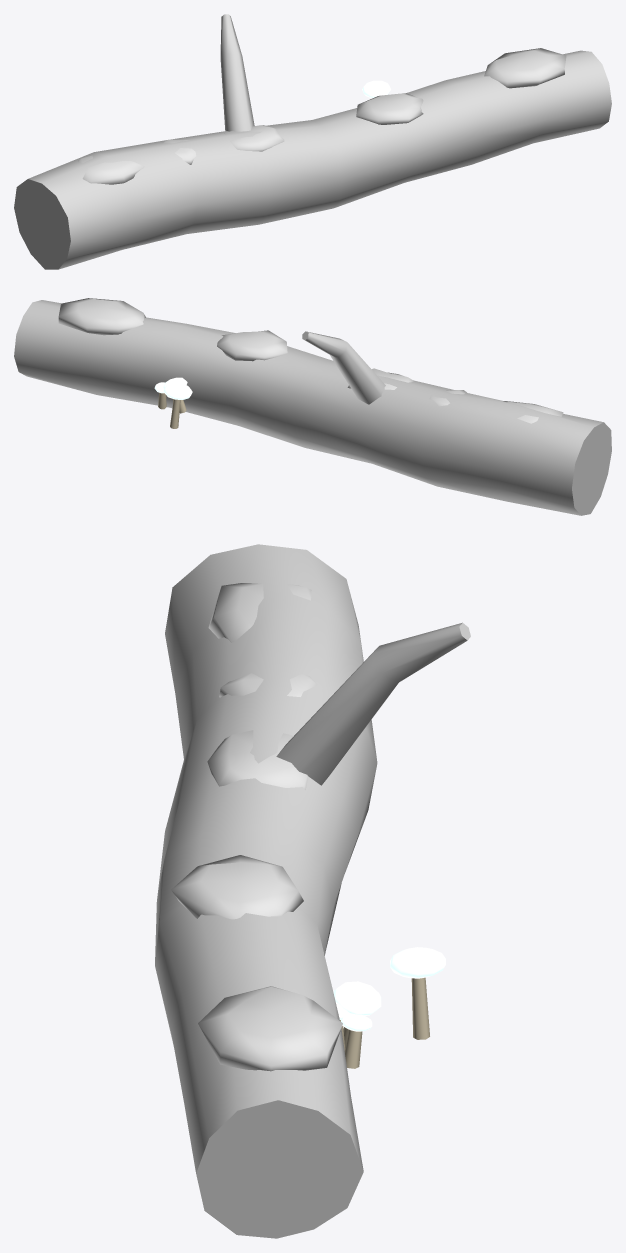
The model's file is FallenLog.fbx.
The picture shows the model from 3 angles, top to bottom: view 1: azimuth 30°, elevation 25°; view 2: azimuth 150°, elevation 25°; view 3: azimuth 270°, elevation 25°; orthographic projection. The views are drawn at different scales.
Visible parts, largest first — view 1: FallenLog__bark_dead, FallenLog__moss, FallenLog__glow_mushroom; view 2: FallenLog__bark_dead, FallenLog__moss, FallenLog__glow_mushroom, FallenLog__mushroom_stem; view 3: FallenLog__bark_dead, FallenLog__moss, FallenLog__glow_mushroom, FallenLog__mushroom_stem.
Boxes of the visible parts, x1,y1,x2,y2 form: FallenLog__bark_dead: (14,14,611,269); FallenLog__moss: (78,48,566,184); FallenLog__glow_mushroom: (362,80,390,98); FallenLog__bark_dead: (14,300,611,515); FallenLog__moss: (58,298,563,423); FallenLog__glow_mushroom: (154,377,192,399); FallenLog__mushroom_stem: (158,392,186,428); FallenLog__bark_dead: (155,544,470,1238); FallenLog__moss: (171,583,342,1071); FallenLog__glow_mushroom: (333,947,445,1031); FallenLog__mushroom_stem: (340,977,429,1068).
Bounding box in the file's own units: 20.25 × 5.6 × 4.96.
